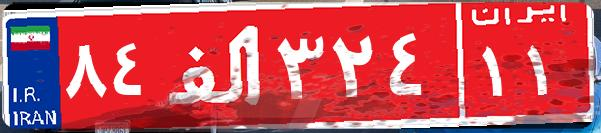1: (475, 38, 525, 113), (525, 38, 570, 115)
2: (330, 28, 385, 110)
3: (273, 28, 330, 110)
4: (385, 28, 445, 110), (110, 28, 158, 105)
8: (57, 26, 110, 107)
الف: (158, 15, 273, 115)
